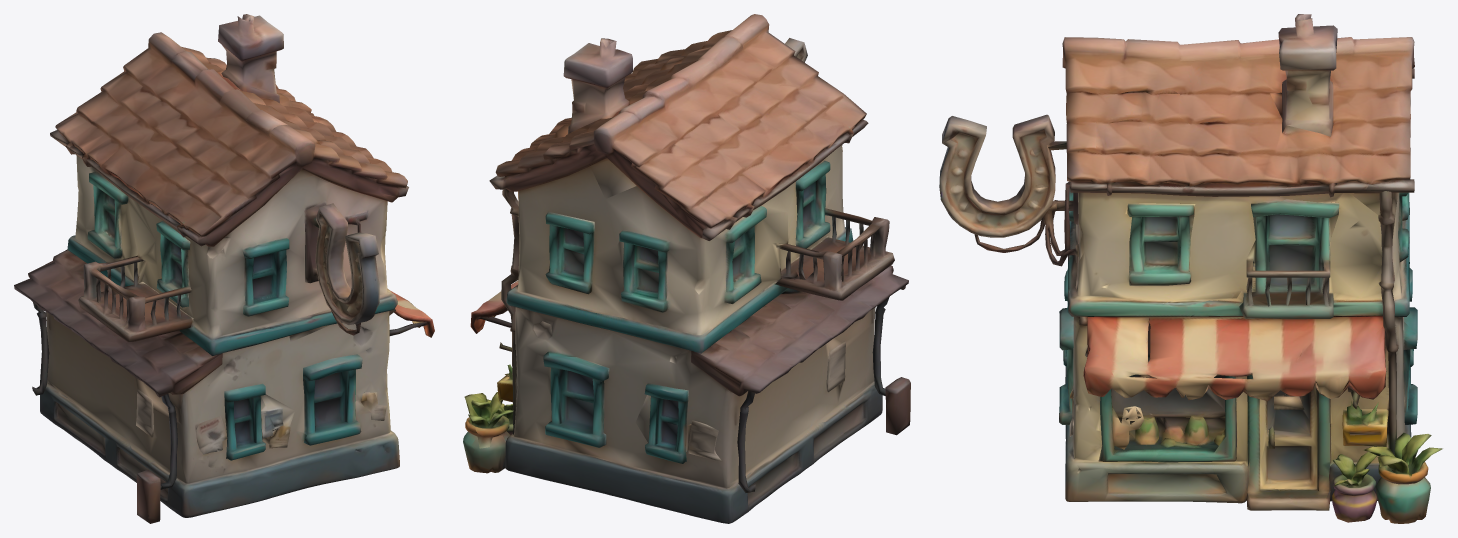
The model's file is charm_shop.glb.
3 renders of one model, left to right at view 1: azimuth 30°, elevation 25°; view 2: azimuth 150°, elevation 25°; view 3: azimuth 270°, elevation 25°, orthographic. The views are drawn at different scales.
Parts seen in each view (by area): view 1: tripo_part_1, tripo_part_0, tripo_part_2, tripo_part_3, tripo_part_14, tripo_part_6, tripo_part_18, tripo_part_10, tripo_part_9, tripo_part_21, tripo_part_25, tripo_part_7 (+2 smaller); view 2: tripo_part_0, tripo_part_1, tripo_part_2, tripo_part_3, tripo_part_14, tripo_part_19, tripo_part_10, tripo_part_17, tripo_part_22, tripo_part_21, tripo_part_13, tripo_part_12 (+3 smaller); view 3: tripo_part_1, tripo_part_2, tripo_part_7, tripo_part_0, tripo_part_8, tripo_part_15, tripo_part_4, tripo_part_6, tripo_part_10, tripo_part_20, tripo_part_13, tripo_part_5 (+5 smaller).
Part boxes in pixels (x1=…): tripo_part_1: x1=50, y1=32, x2=408, y2=246; tripo_part_0: x1=40, y1=309, x2=399, y2=517; tripo_part_2: x1=67, y1=155, x2=397, y2=355; tripo_part_3: x1=14, y1=249, x2=222, y2=523; tripo_part_14: x1=78, y1=255, x2=193, y2=342; tripo_part_6: x1=313, y1=203, x2=379, y2=325; tripo_part_18: x1=303, y1=354, x2=362, y2=445; tripo_part_10: x1=218, y1=14, x2=283, y2=103; tripo_part_9: x1=224, y1=383, x2=295, y2=460; tripo_part_21: x1=156, y1=221, x2=190, y2=307; tripo_part_25: x1=304, y1=201, x2=326, y2=283; tripo_part_7: x1=387, y1=288, x2=434, y2=337; tripo_part_0: x1=504, y1=307, x2=882, y2=523; tripo_part_1: x1=489, y1=14, x2=868, y2=240; tripo_part_2: x1=506, y1=145, x2=853, y2=353; tripo_part_3: x1=691, y1=265, x2=910, y2=492; tripo_part_14: x1=775, y1=208, x2=894, y2=300; tripo_part_19: x1=543, y1=352, x2=609, y2=447; tripo_part_10: x1=563, y1=38, x2=632, y2=133; tripo_part_17: x1=635, y1=383, x2=722, y2=463; tripo_part_22: x1=545, y1=211, x2=594, y2=293; tripo_part_21: x1=795, y1=160, x2=830, y2=248; tripo_part_13: x1=501, y1=188, x2=519, y2=434; tripo_part_12: x1=463, y1=431, x2=510, y2=473; tripo_part_1: x1=1062, y1=37, x2=1414, y2=217; tripo_part_2: x1=974, y1=182, x2=1409, y2=316; tripo_part_7: x1=1083, y1=316, x2=1386, y2=400; tripo_part_0: x1=1065, y1=316, x2=1415, y2=503; tripo_part_8: x1=1239, y1=199, x2=1339, y2=319; tripo_part_15: x1=1247, y1=374, x2=1331, y2=510; tripo_part_4: x1=1098, y1=357, x2=1236, y2=462; tripo_part_6: x1=939, y1=114, x2=1066, y2=237; tripo_part_10: x1=1270, y1=14, x2=1337, y2=136; tripo_part_20: x1=1127, y1=203, x2=1195, y2=285; tripo_part_13: x1=1378, y1=191, x2=1398, y2=455; tripo_part_5: x1=1332, y1=452, x2=1377, y2=522.
Bounding box in the file's own units: 0.7729 × 0.9803 × 0.9806.
Materials: 1 (1 with a texture image).
